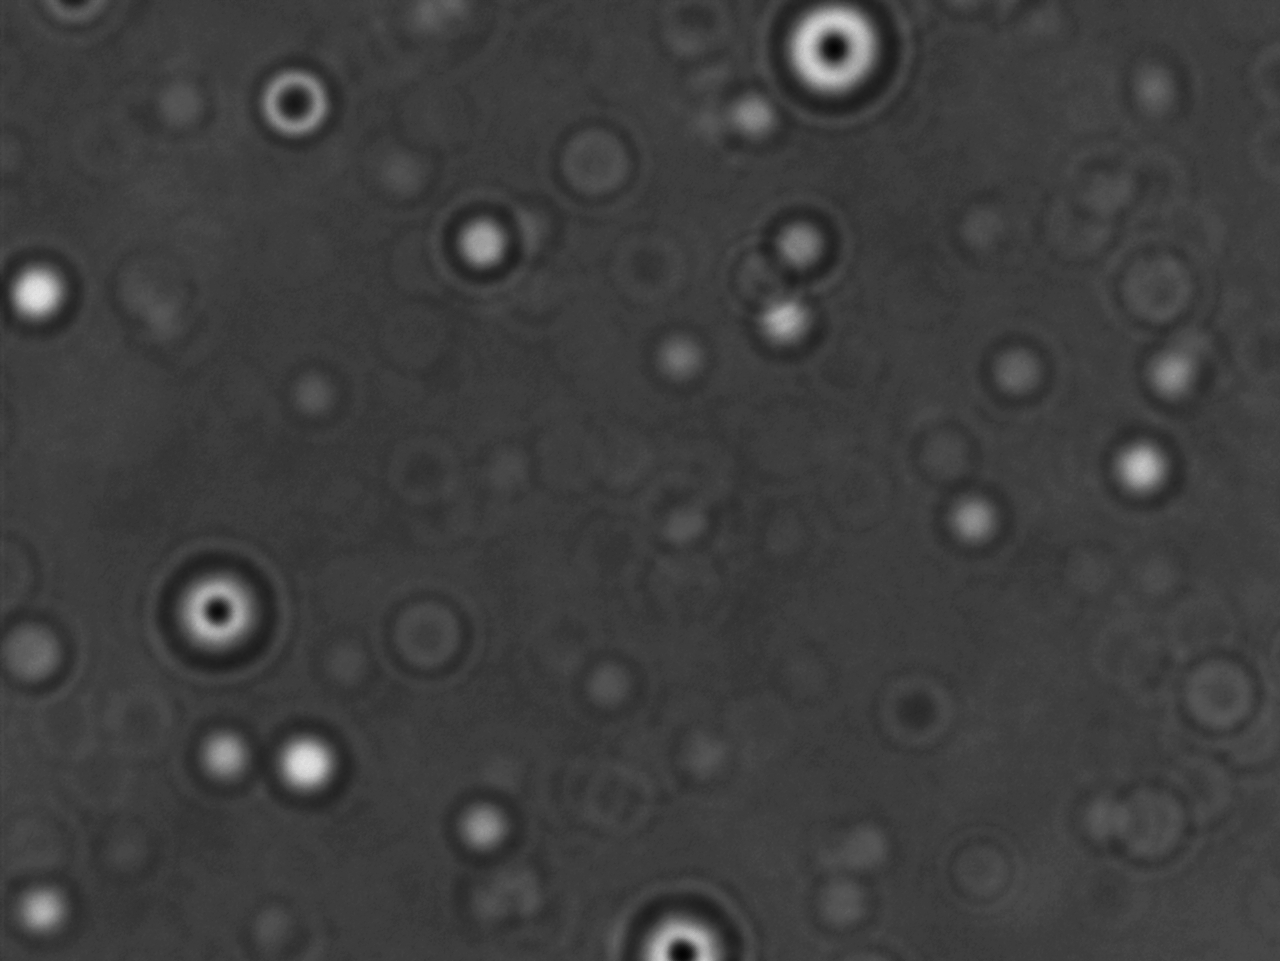depth:24: (148, 536, 290, 680), (618, 893, 772, 961)
